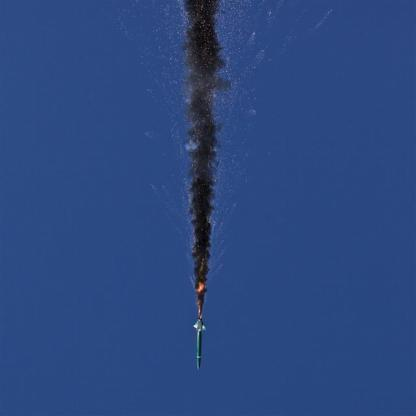MIL_TBM: (194, 316, 204, 372)
